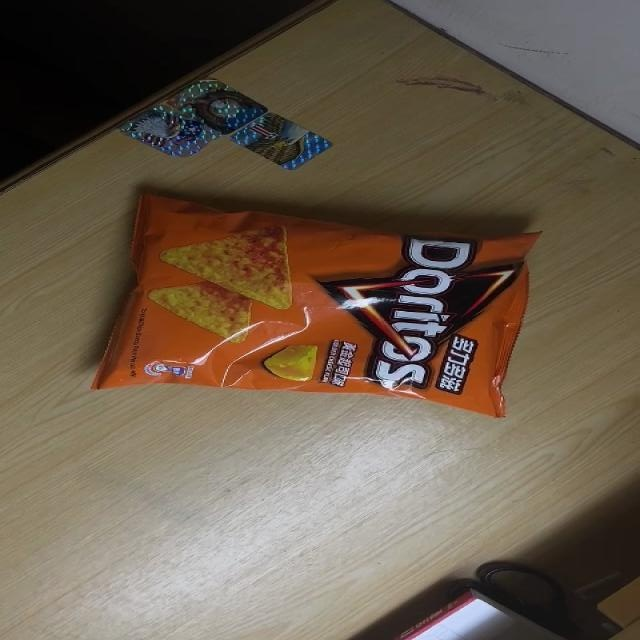Doritos: (89, 188, 546, 419)
